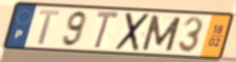3: (177, 15, 206, 55)
9: (61, 10, 89, 48)
M: (139, 14, 183, 53)
T: (92, 9, 122, 51), (36, 9, 62, 47)
X: (113, 11, 152, 53)
